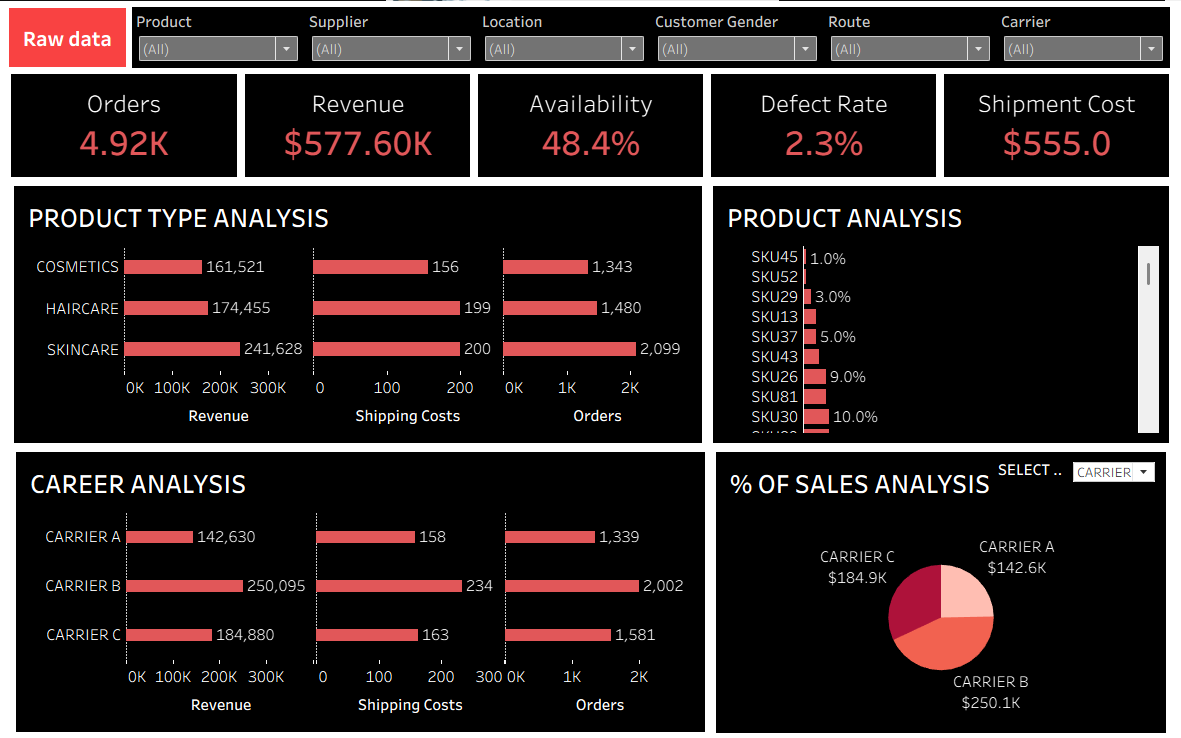

Layout of this report page (visuals, bound fields, positions):
{"tool":"tableau","page":{"name":"SUPPLY CHAIN DASHBOARD","canvas":[1200,1200],"ordinal":0},"visuals":[{"type":"image","param":"Image/Screenshot 2024-12-14 at 1.38.08 AM.png","box":[8,3,1180,90]},{"type":"web page","param":"https://mir-s3-cdn-cf.behance.net/project_modules/hd/e1292d61226065.5a67940f26aa","box":[9,87,1182,235]},{"type":"text","box":[55,88,399,227]},{"type":"filter","title":"Number of Orders","param":"[federated.0c68tww1ywk3zl18at2pk1pq1xmc].[none:PRODUCT:nk]","box":[141,328,173,61]},{"type":"filter","title":"Number of Orders","param":"[federated.0c68tww1ywk3zl18at2pk1pq1xmc].[none:SUPPLIER:nk]","box":[314,328,173,61]},{"type":"filter","title":"Number of Orders","param":"[federated.0c68tww1ywk3zl18at2pk1pq1xmc].[none:LOCATION:nk]","box":[487,328,173,61]},{"type":"filter","title":"Number of Orders","param":"[federated.0c68tww1ywk3zl18at2pk1pq1xmc].[none:CUSTOMER_GENDER:nk]","box":[660,328,173,61]},{"type":"filter","title":"Number of Orders","param":"[federated.0c68tww1ywk3zl18at2pk1pq1xmc].[none:ROUTE:nk]","box":[833,328,173,61]},{"type":"filter","title":"Number of Orders","param":"[federated.0c68tww1ywk3zl18at2pk1pq1xmc].[none:CARRIER:nk]","box":[1006,328,173,61]},{"type":"dashboard-object","box":[18,329,117,59]},{"type":"worksheet","title":"Number of Orders","mark":"Automatic","box":[16,391,234,111]},{"type":"worksheet","title":"Revenue","mark":"Automatic","box":[250,391,233,111]},{"type":"worksheet","title":"Availability","mark":"Automatic","box":[483,391,233,111]},{"type":"worksheet","title":"Defect Rate","mark":"Automatic","box":[716,391,233,111]},{"type":"worksheet","title":"Shipment Cost","mark":"Automatic","box":[949,391,233,111]},{"type":"blank","box":[873,460.5,124,49.5]},{"type":"worksheet","title":"PRODUCT TYPE ANALYSIS","mark":"Automatic","rows":["PRODUCT_TYPE"],"cols":["REVENUE","SHIPPING_COSTS","ORDERS"],"box":[23,507,688,257]},{"type":"worksheet","title":"PRODUCT ANALYSIS","mark":"Automatic","rows":["PRODUCT"],"cols":["AVAILABILITY_PCT"],"box":[722,507,456,257]},{"type":"worksheet","title":"CAREER ANALYSIS","mark":"Automatic","rows":["CARRIER"],"cols":["REVENUE","SHIPPING_COSTS","ORDERS"],"box":[25,773,689,280]},{"type":"worksheet","title":"PERCENT OF TOTAL SALES ANALYSIS","mark":"Pie","box":[725,773,450,281]},{"type":"parameter","param":"[Parameters].[Parameter 1]","box":[1007,780,160,44]},{"type":"image","param":"Image/Screenshot 2024-12-14 at 2.19.46 AM.png","box":[26,1059,1149,129]}]}

Visuals, with their boxes on the page's 1200x1200 design canvas (x1, y1, x2, y2). These are canvas units, not pixel positions in the 1181x738 screenshot, which may show the page scaled, cropped or inside an application window:
image: l=8, t=3, r=1188, b=93
web page: l=9, t=87, r=1191, b=322
text: l=55, t=88, r=454, b=315
"Number of Orders" filter: l=141, t=328, r=314, b=389
"Number of Orders" filter: l=314, t=328, r=487, b=389
"Number of Orders" filter: l=487, t=328, r=660, b=389
"Number of Orders" filter: l=660, t=328, r=833, b=389
"Number of Orders" filter: l=833, t=328, r=1006, b=389
"Number of Orders" filter: l=1006, t=328, r=1179, b=389
dashboard-object: l=18, t=329, r=135, b=388
"Number of Orders" worksheet: l=16, t=391, r=250, b=502
"Revenue" worksheet: l=250, t=391, r=483, b=502
"Availability" worksheet: l=483, t=391, r=716, b=502
"Defect Rate" worksheet: l=716, t=391, r=949, b=502
"Shipment Cost" worksheet: l=949, t=391, r=1182, b=502
blank: l=873, t=460, r=997, b=510
"PRODUCT TYPE ANALYSIS" worksheet: l=23, t=507, r=711, b=764
"PRODUCT ANALYSIS" worksheet: l=722, t=507, r=1178, b=764
"CAREER ANALYSIS" worksheet: l=25, t=773, r=714, b=1053
"PERCENT OF TOTAL SALES ANALYSIS" worksheet (Pie marks): l=725, t=773, r=1175, b=1054
parameter: l=1007, t=780, r=1167, b=824
image: l=26, t=1059, r=1175, b=1188
